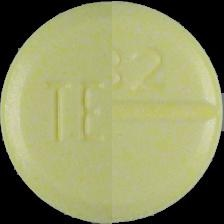0179-0164: (0, 0, 224, 224)
